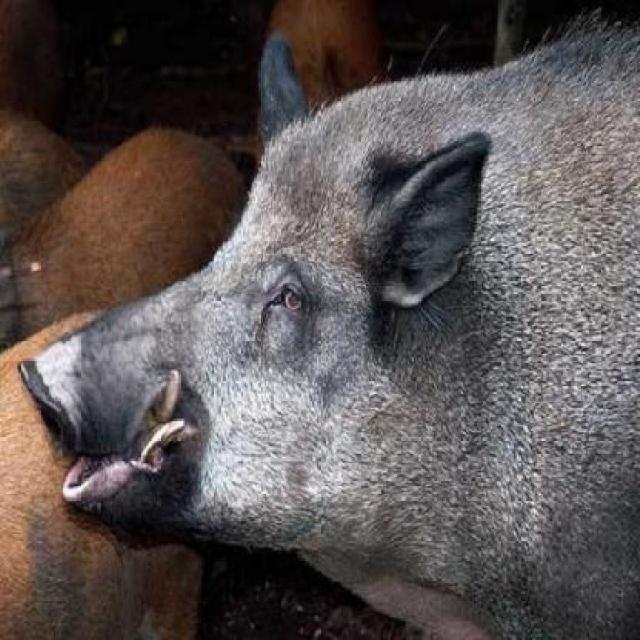pig: (42, 19, 639, 638)
